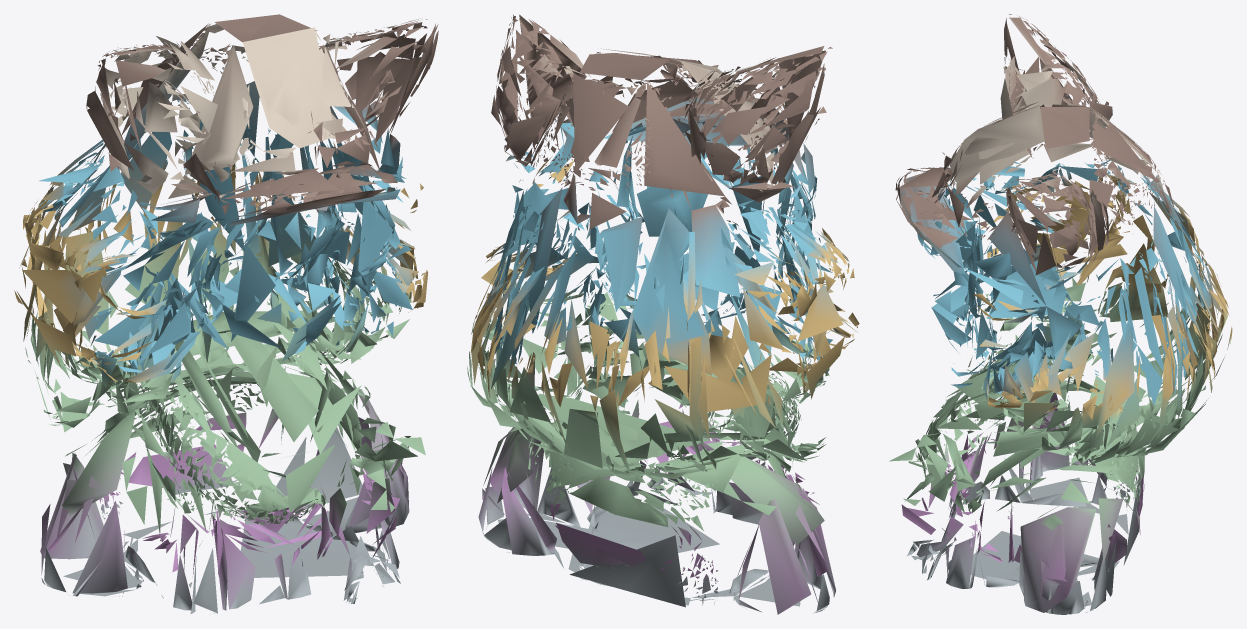
File: statue_id_colored.glb
3 views of the same model, side by side, from view 1: azimuth 30°, elevation 25°; view 2: azimuth 150°, elevation 25°; view 3: azimuth 270°, elevation 25° (orthographic). The views are drawn at different scales.
Parts seen in each view (by area): view 1: Statue_ID_Mask; view 2: Statue_ID_Mask; view 3: Statue_ID_Mask.
Boxes of the visible parts, left/top/right/bottom form: Statue_ID_Mask: left=14, top=14, right=438, bottom=613; Statue_ID_Mask: left=467, top=14, right=859, bottom=614; Statue_ID_Mask: left=889, top=14, right=1232, bottom=614.
Size of the model in its own units: 1.11 by 1.6 by 1.07.
